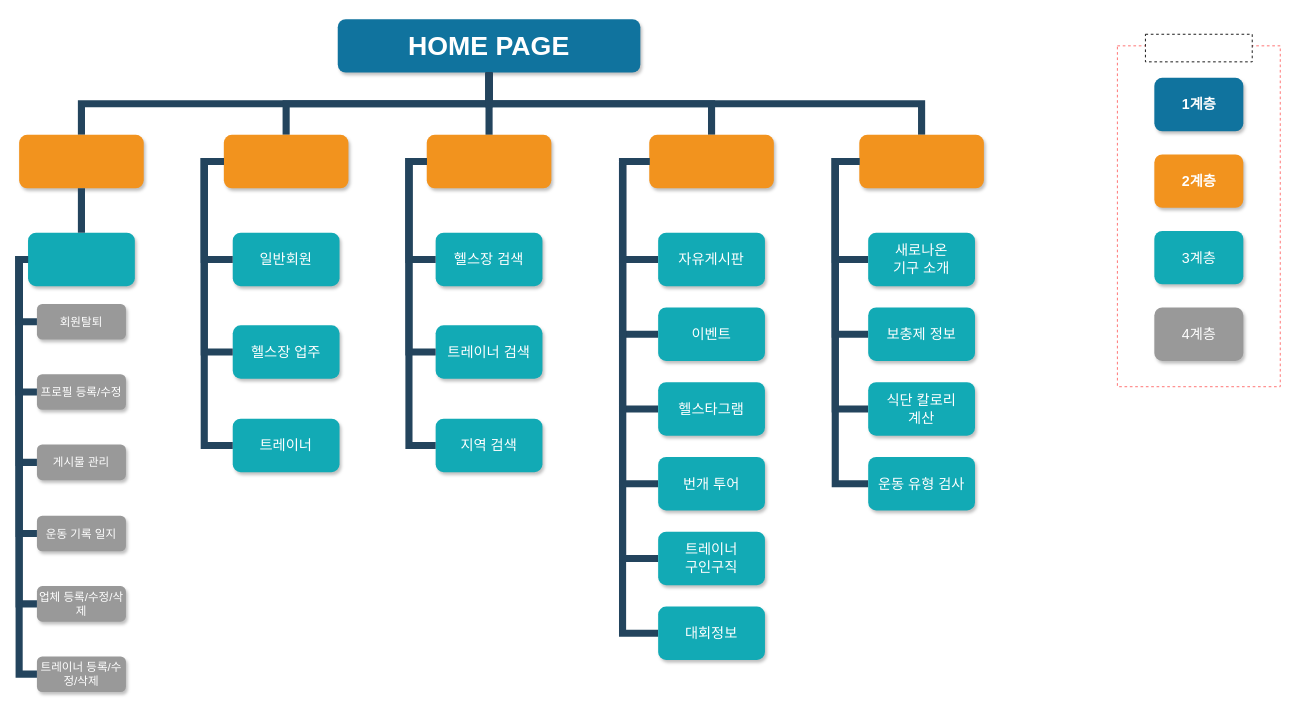
This 1296x713 diagram has some shape labels left out. The centre of each missing label's shape, as x and y in pixels:
LEGEND: point (1198, 47)
검색: point (489, 162)
내 정보 (MY PAGE): point (82, 260)
로그인: point (82, 162)
블로그: point (922, 162)
커뮤니티: point (712, 162)
회원가입: point (286, 162)
